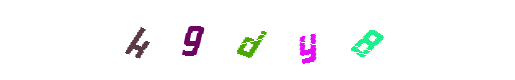8: (325, 0, 405, 80)
9: (210, 0, 290, 80)
D: (217, 0, 297, 80)
K: (128, 0, 208, 80)
Y: (265, 0, 345, 80)
